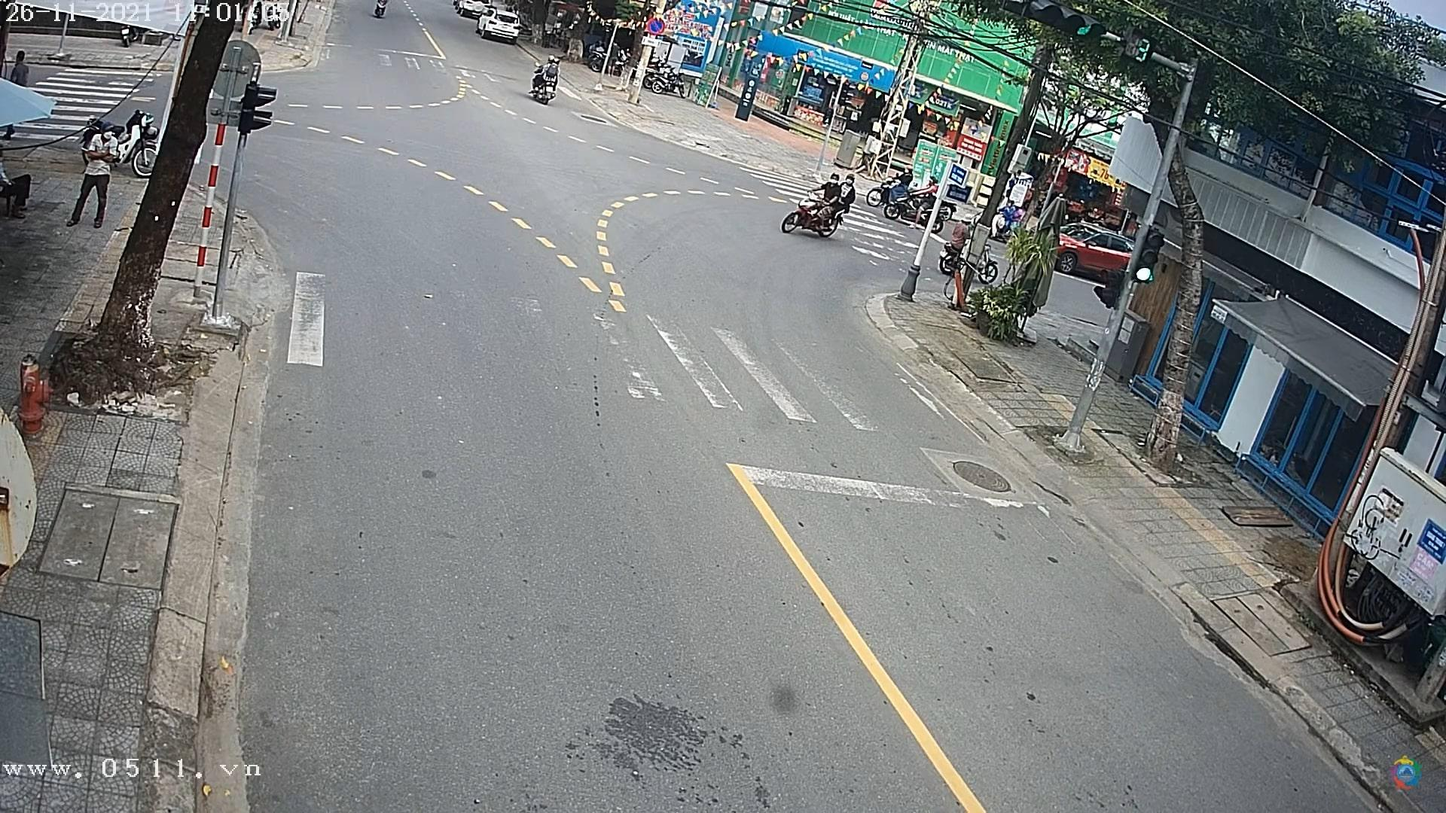car: (1056, 223, 1136, 286), (453, 2, 497, 20)
motorbike: (780, 202, 836, 238), (529, 63, 560, 102)
